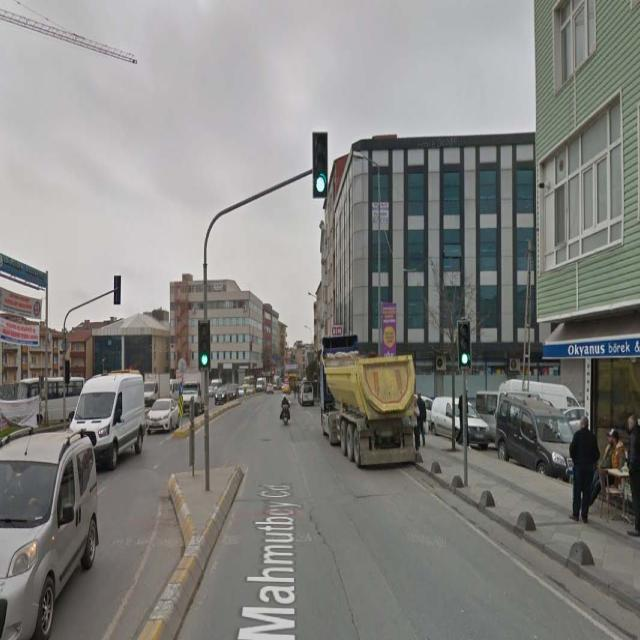yesil: (312, 129, 328, 200), (198, 318, 210, 370), (458, 318, 470, 368)
